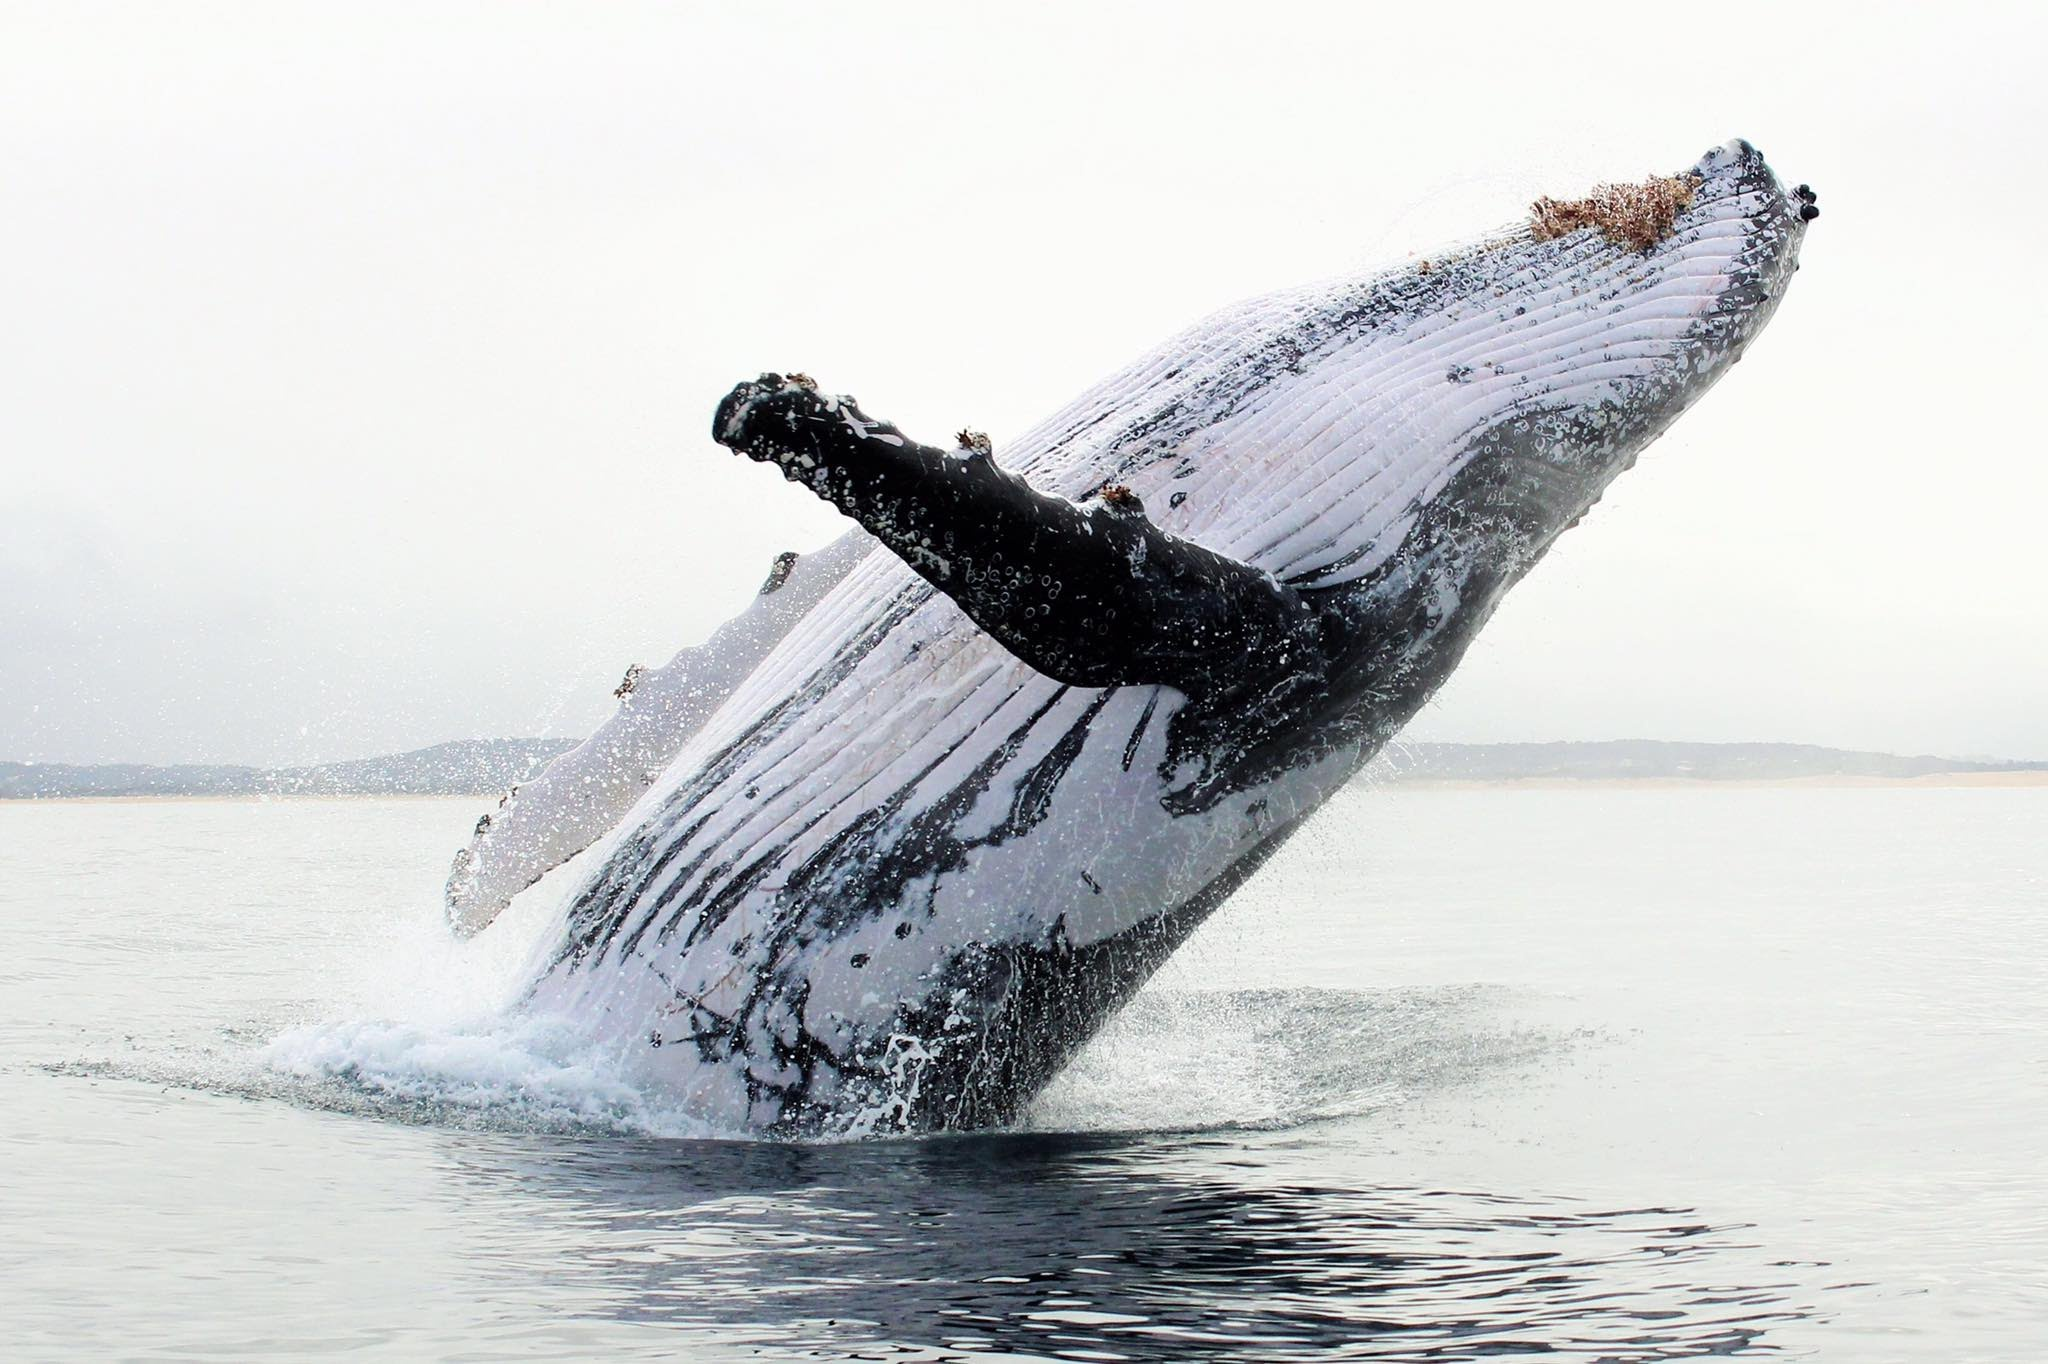humpback: (466, 122, 1818, 1136)
